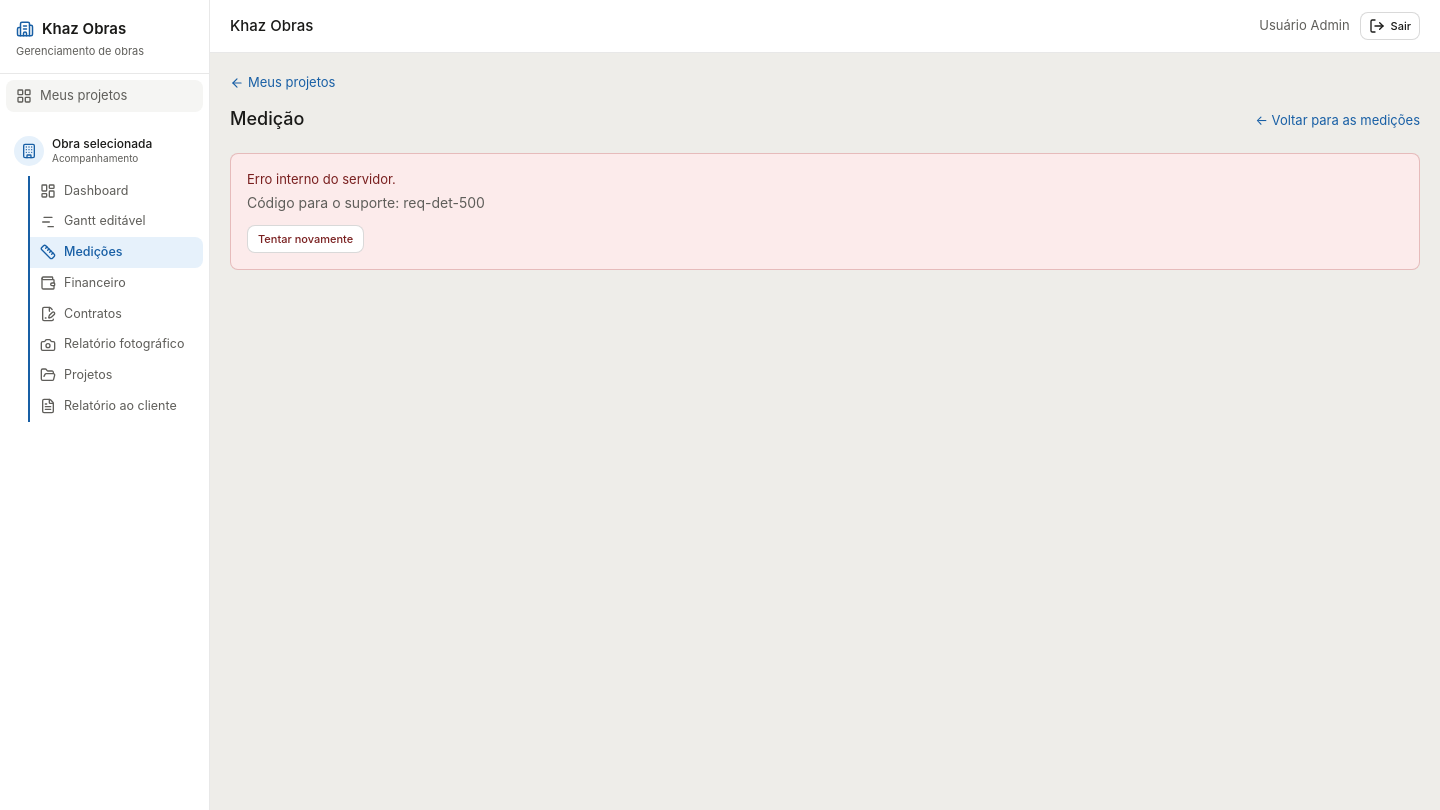
Scenario: Medição (admin) - detalhe › erro 500 mostra o código de suporte e "Tentar novamente" recarrega
The image size is (1440, 810).
Expected: the message shows "req-det-500", x1=403 y1=194 x2=485 y2=211
Step 1. Click the button "Tentar novamente" → [306, 239], box x1=247 y1=225 x2=364 y2=253
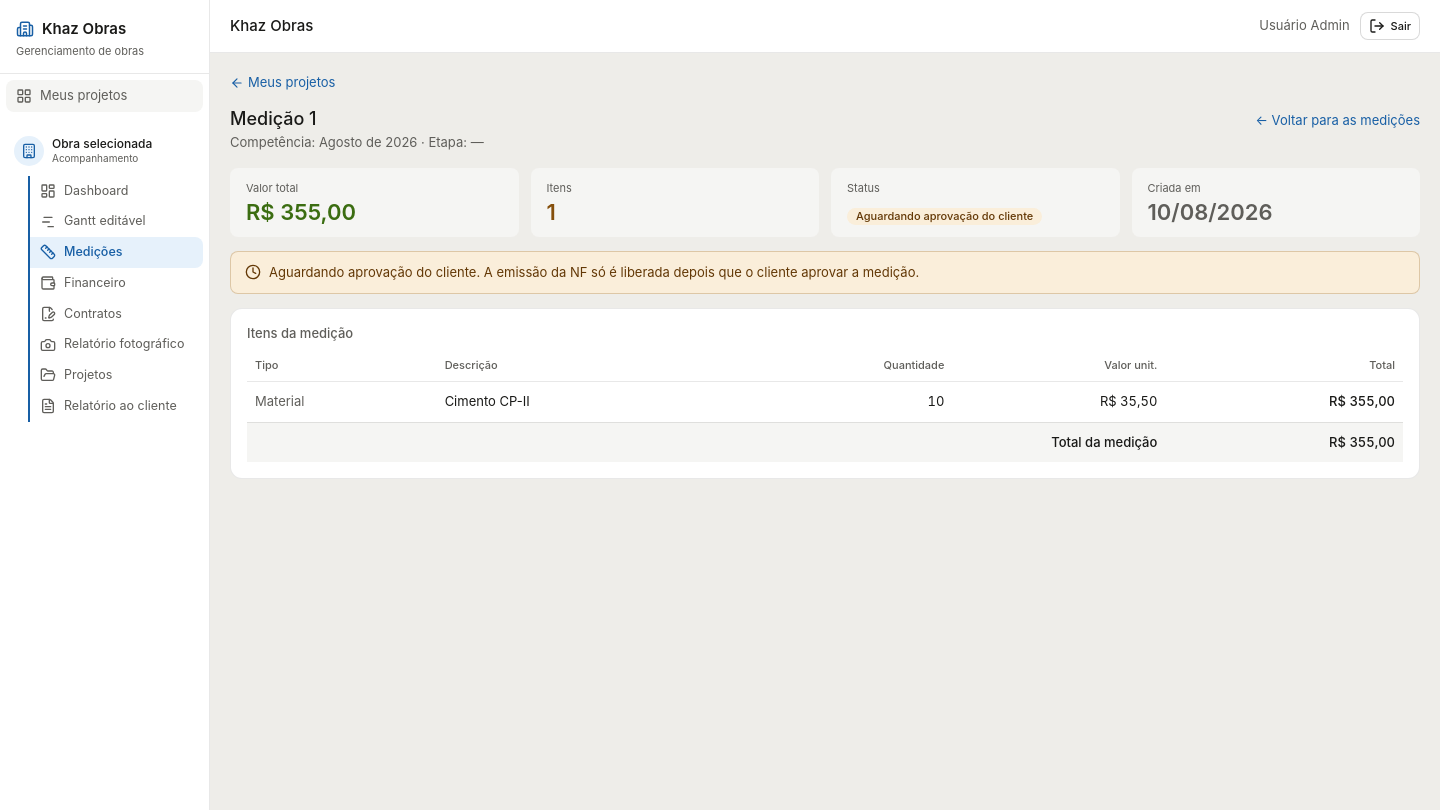
Result: the heading "Medição 1" is shown at x1=230 y1=108 x2=317 y2=128
